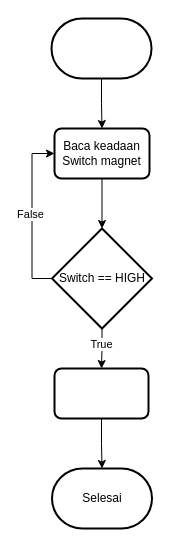
Image size: 170x546. Some labels were removed from this diagram. The centre of each missing label's shape, as x and y in pixels:
Buzzer bersuara: (101,393)
Start: (101,48)
